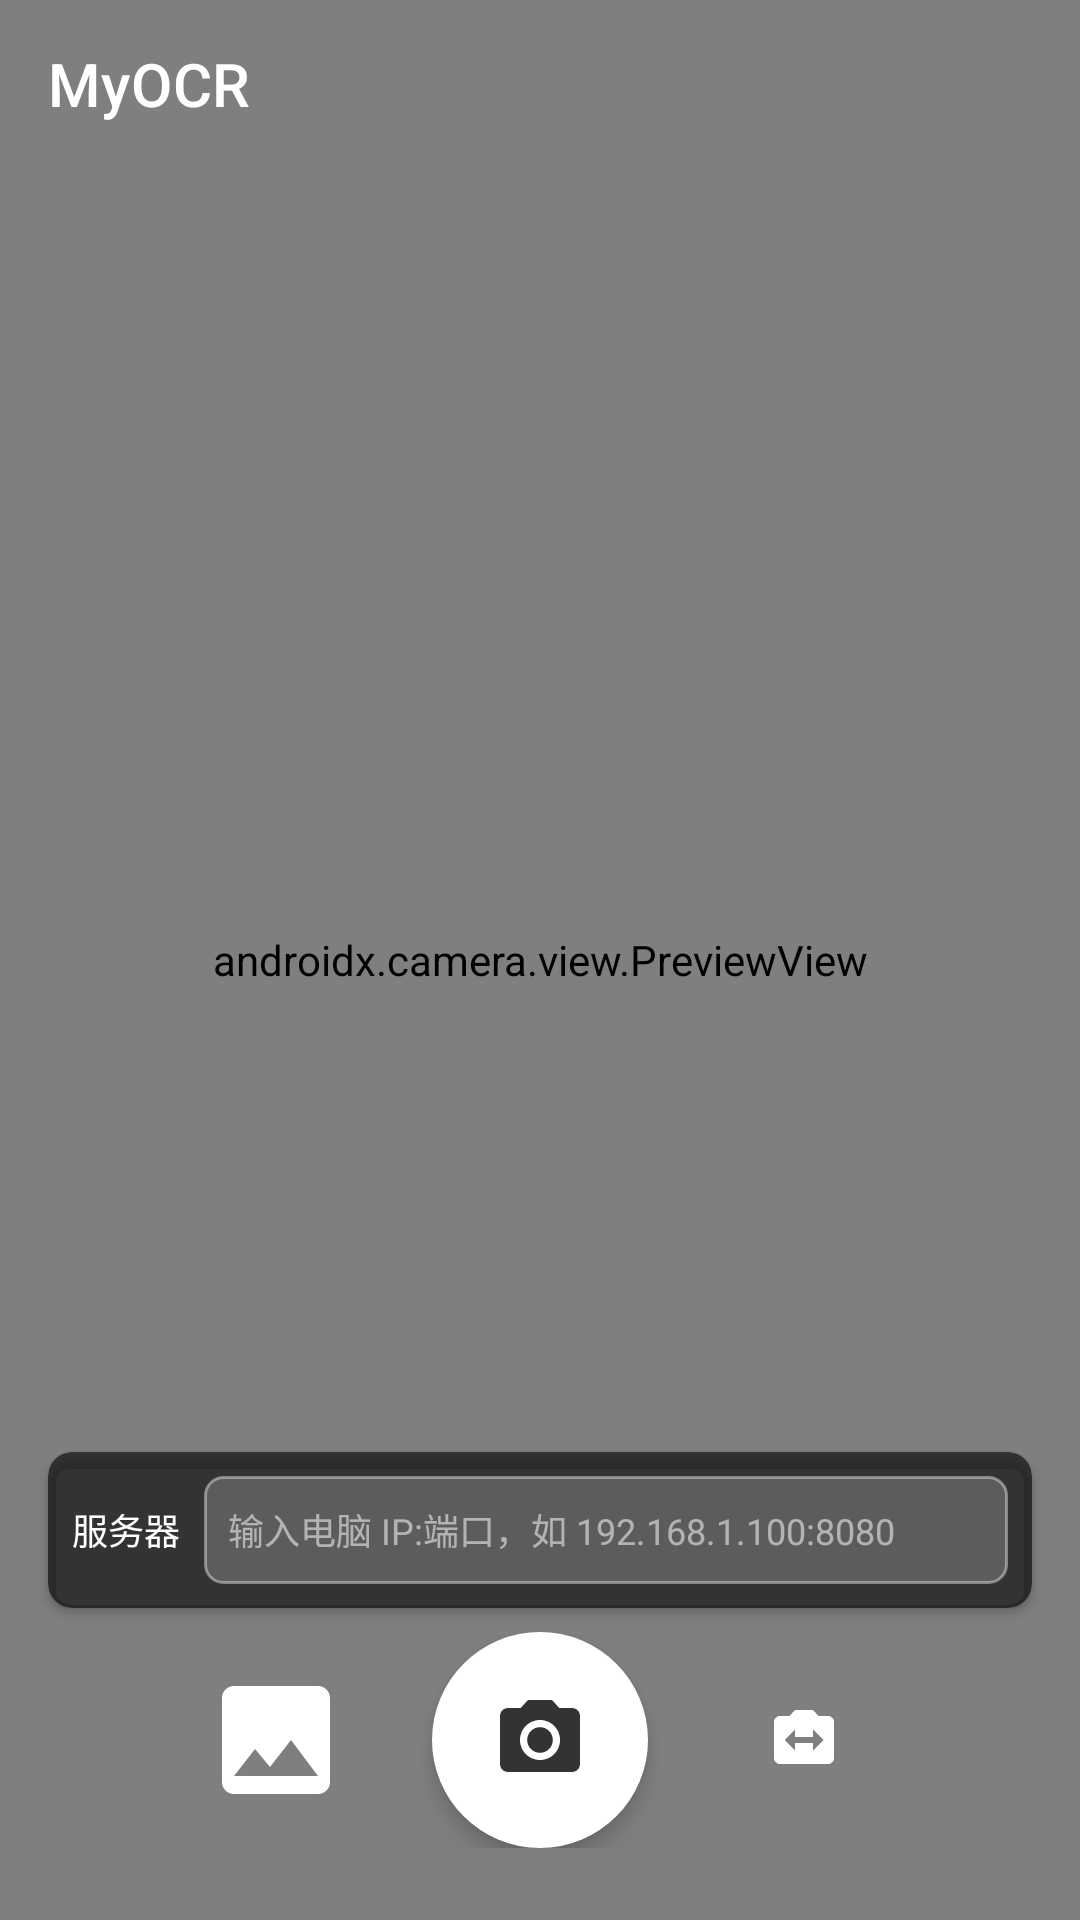

Point at icon controls on the screen. Image size 1080*1920, points as point (x, y).
从相册选择: point (276, 1740)
切换摄像头: point (804, 1737)
拍照识别: point (540, 1740)
